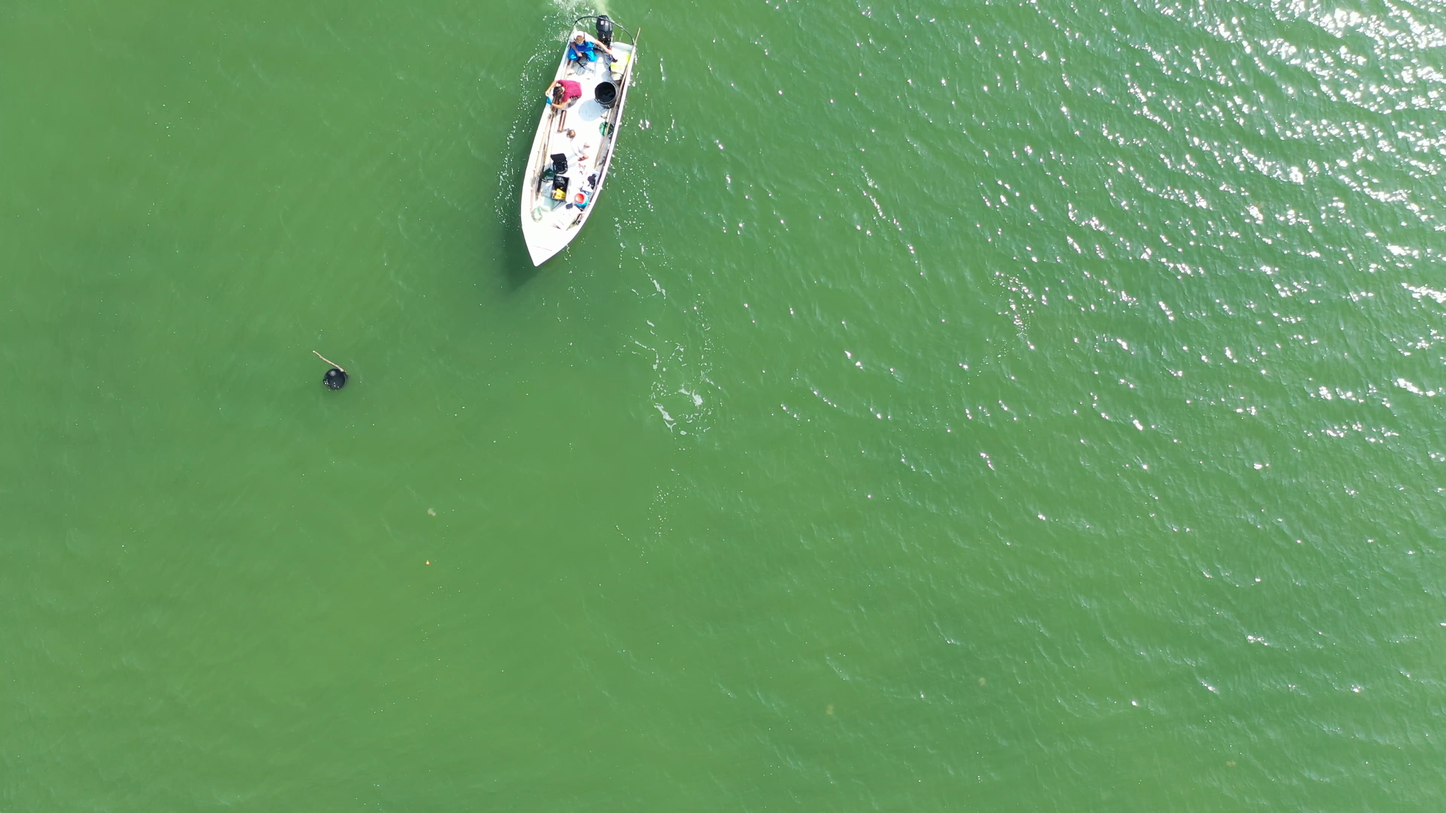meduse: (1254, 198, 1265, 210), (825, 706, 836, 718), (427, 508, 435, 518), (1226, 761, 1235, 768), (979, 678, 985, 687)
